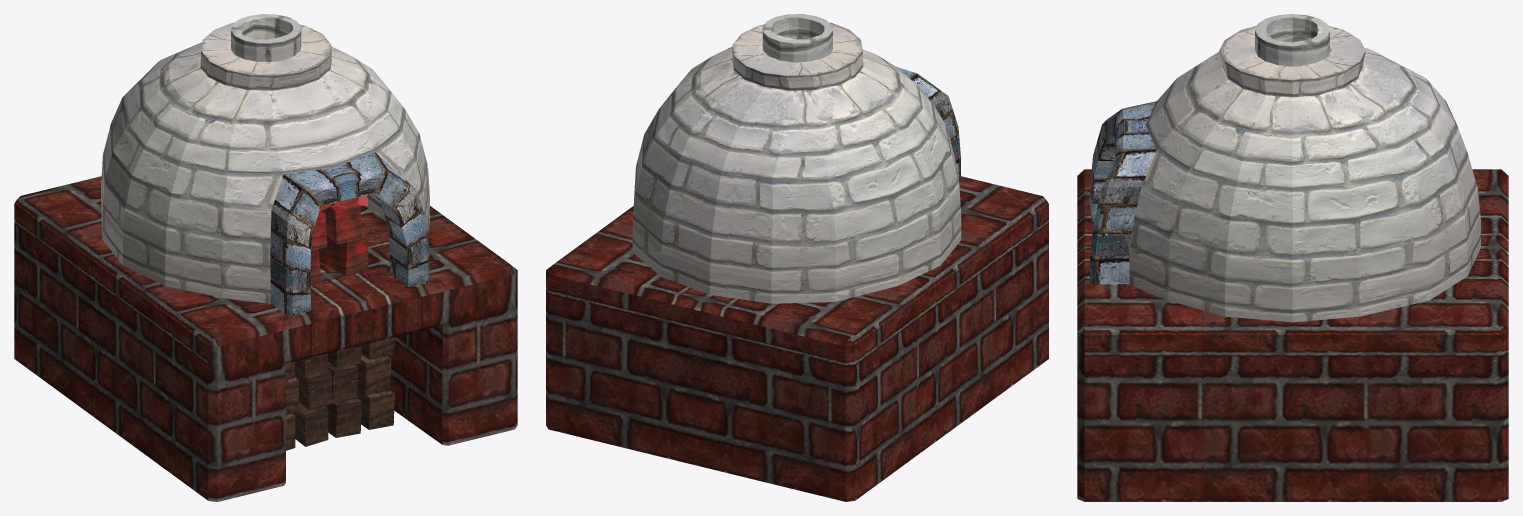
The model's file is かまど.fbx.
3 views of the same model, side by side, from view 1: azimuth 30°, elevation 25°; view 2: azimuth 150°, elevation 25°; view 3: azimuth 270°, elevation 25° (orthographic). The views are drawn at different scales.
Visible parts, largest first — view 1: Cube, Sphere.001, Cube.004, Cube.007, Cube.010, Cube.002, Cube.006, Cube.005, Cube.008, Cube.009; view 2: Cube, Sphere.001; view 3: Sphere.001, Cube.
Boxes of the visible parts, left/top/right/bottom form: Cube: left=14, top=176, right=517, bottom=501; Sphere.001: left=101, top=14, right=429, bottom=316; Cube.004: left=292, top=398, right=361, bottom=446; Cube.007: left=295, top=362, right=358, bottom=410; Cube.010: left=310, top=234, right=368, bottom=284; Cube.002: left=311, top=204, right=361, bottom=251; Cube.006: left=285, top=354, right=391, bottom=415; Cube.005: left=286, top=390, right=394, bottom=450; Cube.008: left=294, top=345, right=361, bottom=376; Cube.009: left=285, top=337, right=394, bottom=380; Cube: left=546, top=176, right=1048, bottom=501; Sphere.001: left=632, top=14, right=961, bottom=303; Sphere.001: left=1090, top=14, right=1480, bottom=322; Cube: left=1077, top=169, right=1508, bottom=501.
Size of the model in its own units: 159 by 178 by 178.
